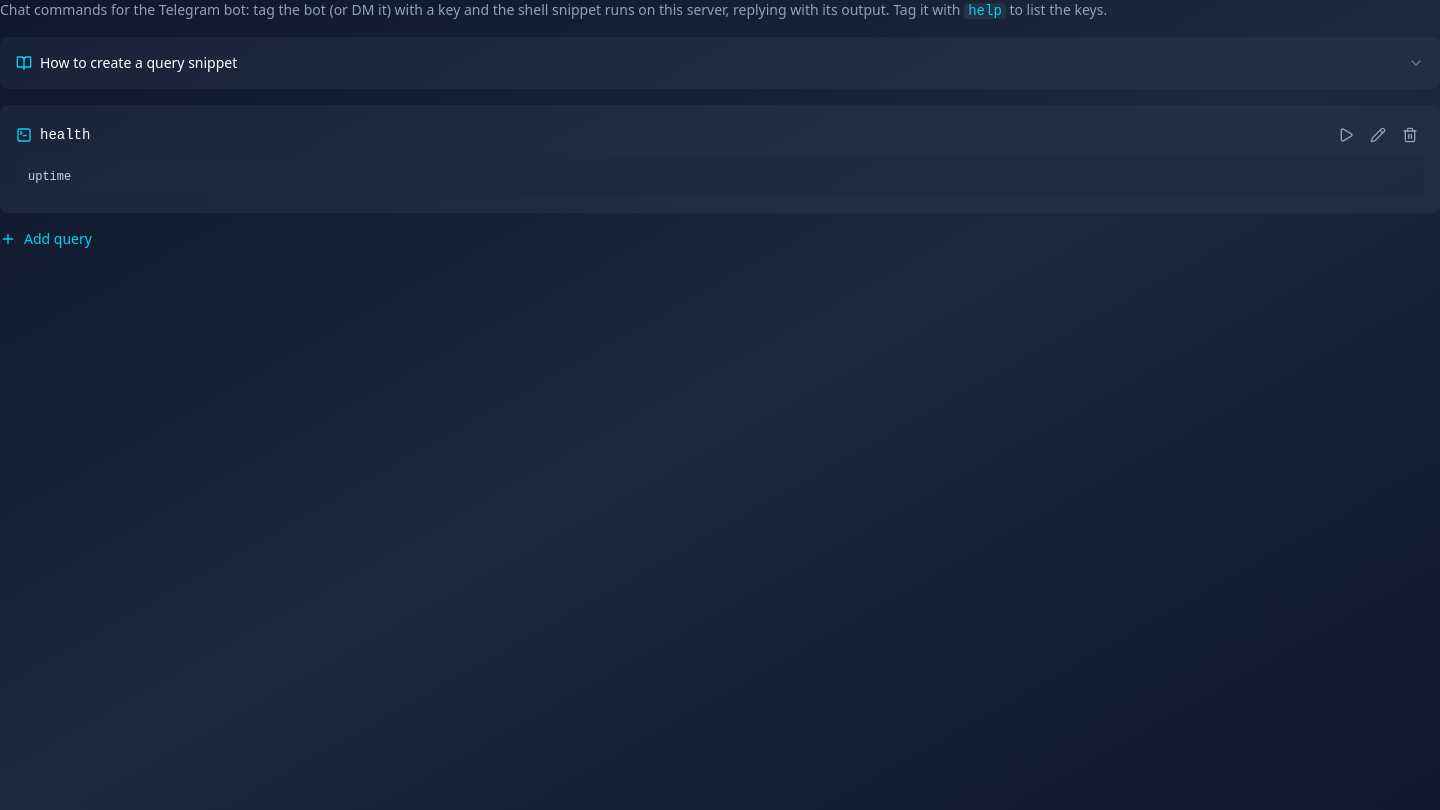
Test: QueriesSettings - add / edit › cancel closes the editor without saving
The width and height of the screenshot is (1440, 810).
Expected: the text "health" is shown, [40,125,90,145]
What coordinates should you click on to do the following:
click the button titled "Edit"
I would click on:
 (1378, 135)
Its box is [1364,121,1392,149].
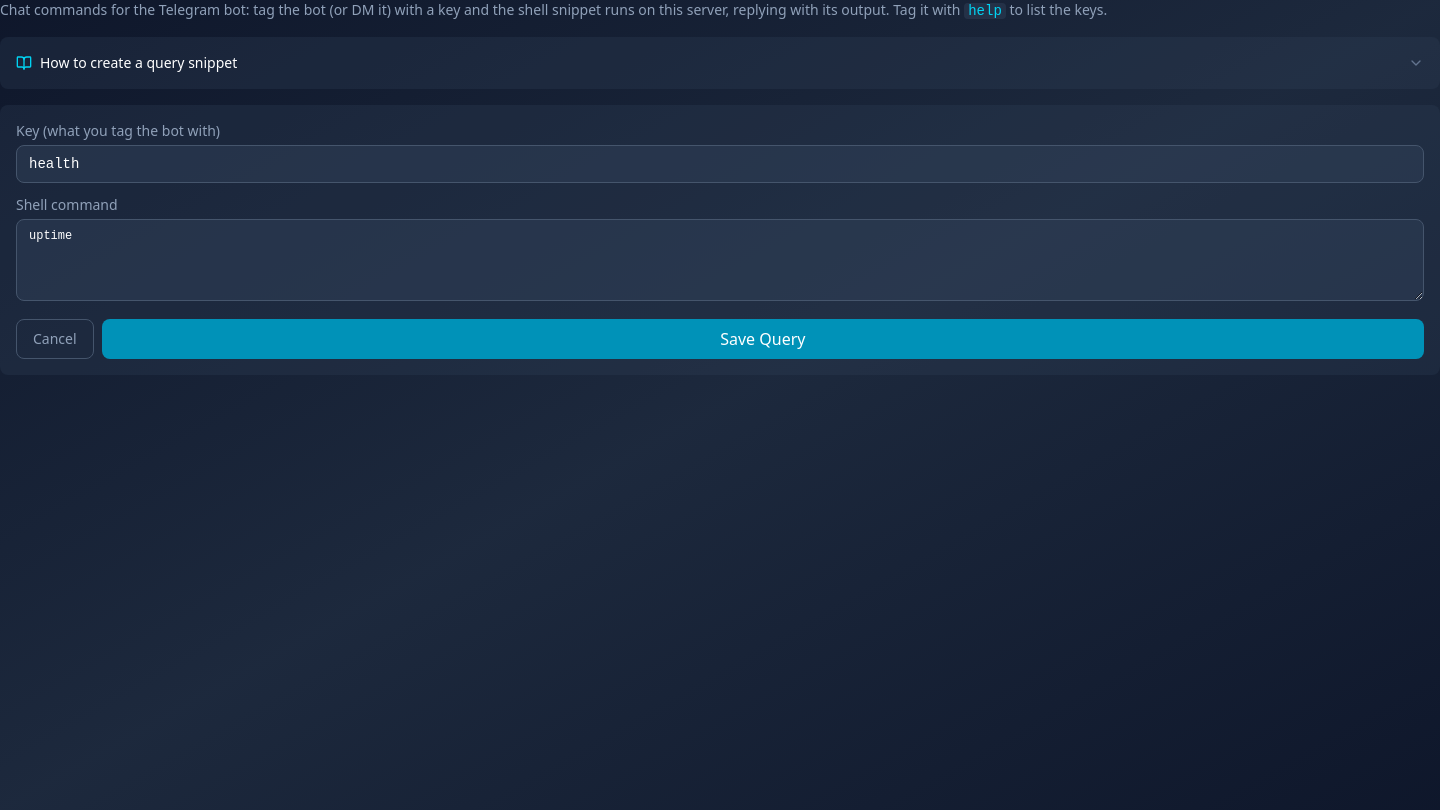
What coordinates should you click on to do the following:
click the button "Cancel"
I would click on:
 (55, 339)
Its box is [16,319,94,359].
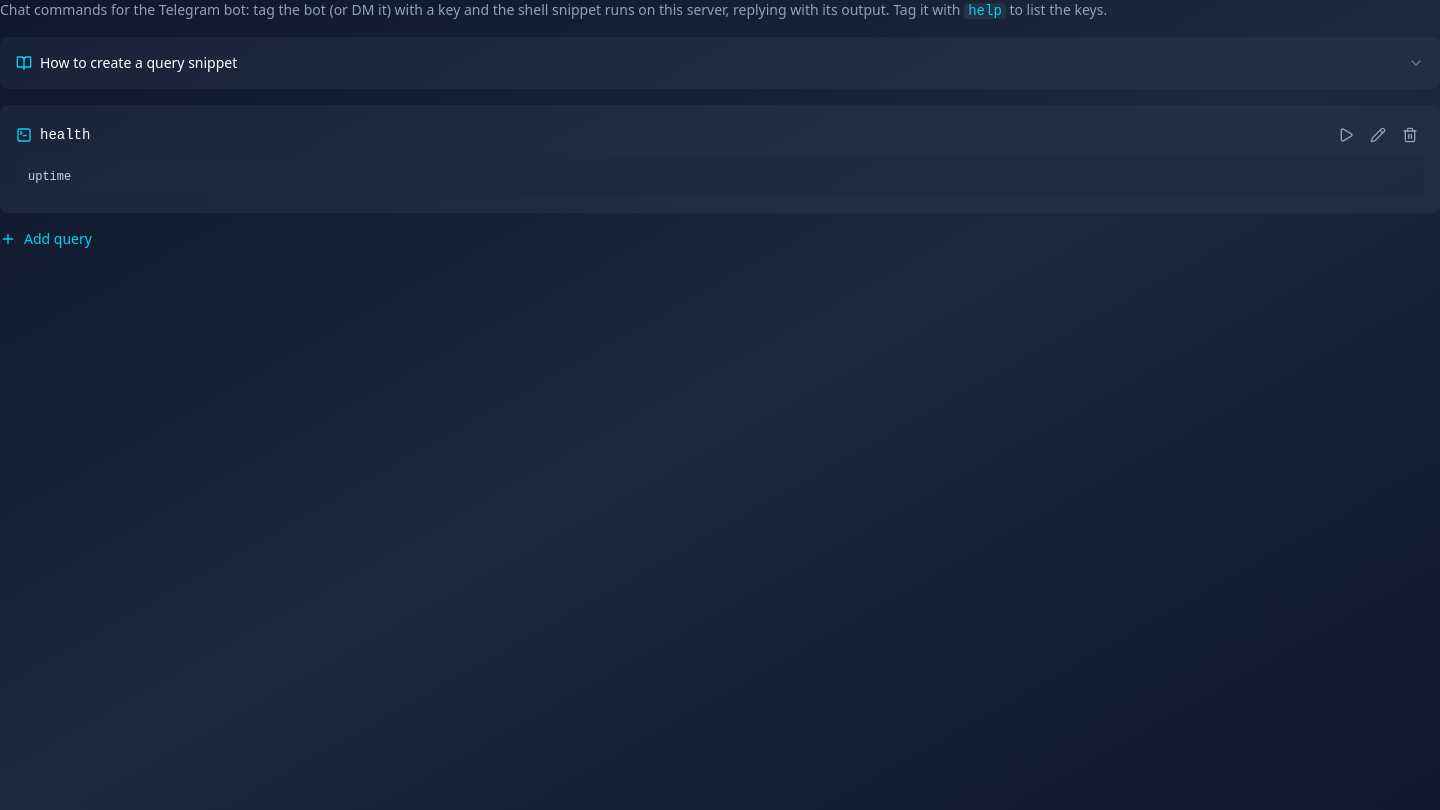
Now the text "uptime" is shown, box [16,157,1424,197]
